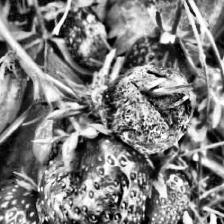Gray Mold: (61, 65, 196, 155), (70, 8, 109, 65)
